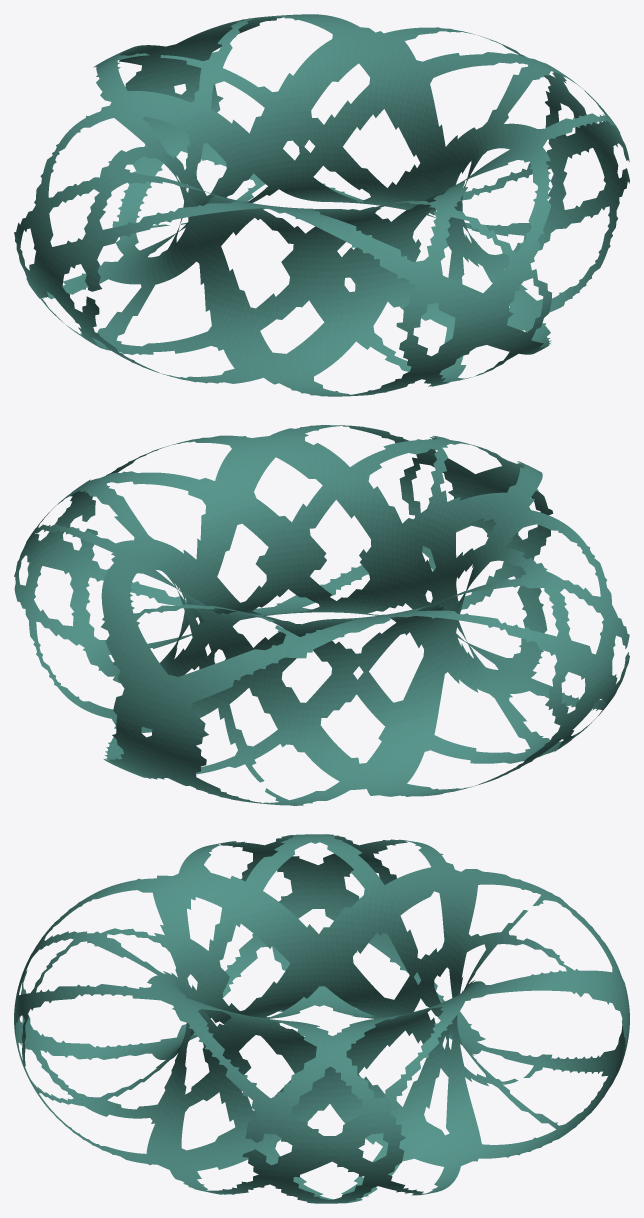
3 views of the same model, one above another, from view 1: azimuth 30°, elevation 25°; view 2: azimuth 150°, elevation 25°; view 3: azimuth 270°, elevation 25° (orthographic). The views are drawn at different scales.
Visible parts, largest first — view 1: world; view 2: world; view 3: world.
Boxes of the visible parts, left/top/right/bottom form: world: left=14, top=14, right=629, bottom=396; world: left=14, top=425, right=629, bottom=805; world: left=14, top=834, right=629, bottom=1203.
Bounding box in the file's own units: 5.25 × 1.56 × 5.24.
